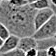cell: (38, 24, 52, 36), (36, 11, 49, 23), (20, 39, 34, 50), (11, 12, 24, 22), (6, 36, 16, 48), (33, 1, 46, 8), (46, 46, 54, 56), (10, 1, 22, 7)
